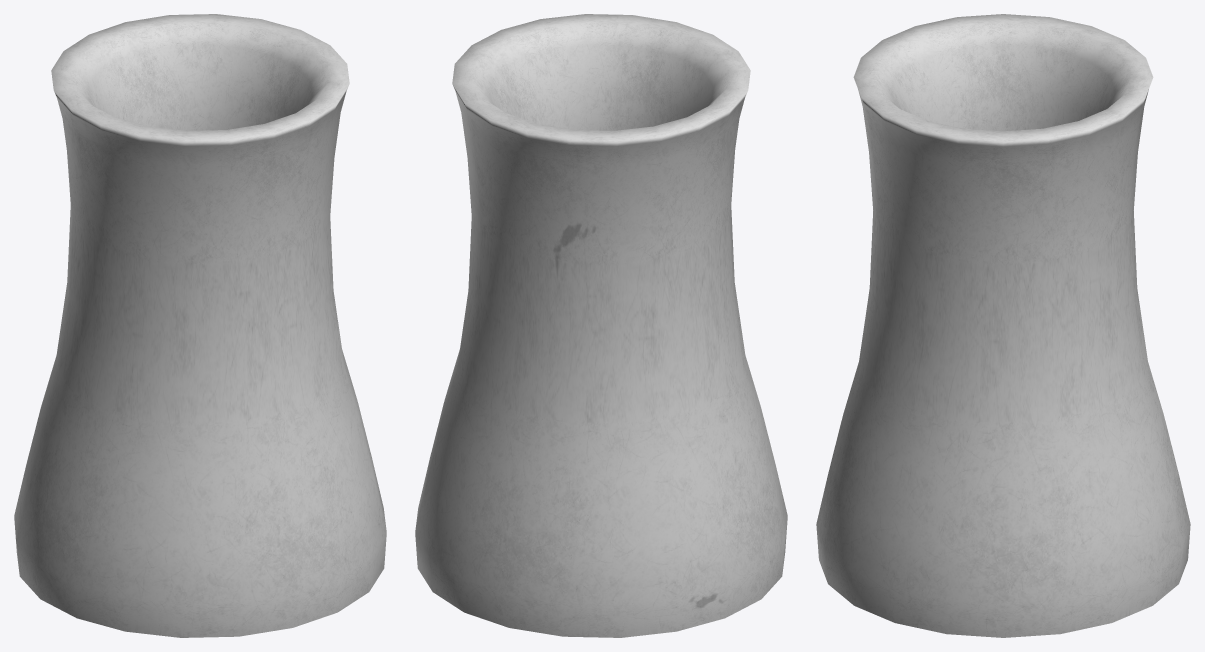
File: Nuclear Cooling Tower.fbx
The picture shows the model from 3 angles, left to right: view 1: azimuth 30°, elevation 25°; view 2: azimuth 150°, elevation 25°; view 3: azimuth 270°, elevation 25°; orthographic projection.
Visible parts, largest first — view 1: Tower_Body; view 2: Tower_Body; view 3: Tower_Body.
Boxes of the visible parts, left/top/right/bottom form: Tower_Body: left=14, top=14, right=386, bottom=637; Tower_Body: left=415, top=14, right=787, bottom=637; Tower_Body: left=816, top=14, right=1190, bottom=637.
Bounding box in the file's own units: 0.1013 × 0.1459 × 0.1013.
Materials: 1 (1 with a texture image).
